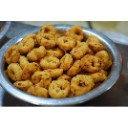vada: (47, 76, 72, 99), (69, 71, 93, 93), (40, 53, 64, 71), (31, 69, 52, 87), (16, 34, 35, 53), (86, 33, 105, 51), (82, 56, 102, 73), (5, 61, 22, 80), (69, 23, 85, 42), (56, 35, 76, 50), (6, 42, 19, 64), (38, 32, 57, 47), (40, 55, 61, 68), (28, 83, 46, 98), (30, 45, 46, 61), (14, 79, 31, 94), (61, 52, 73, 71)
